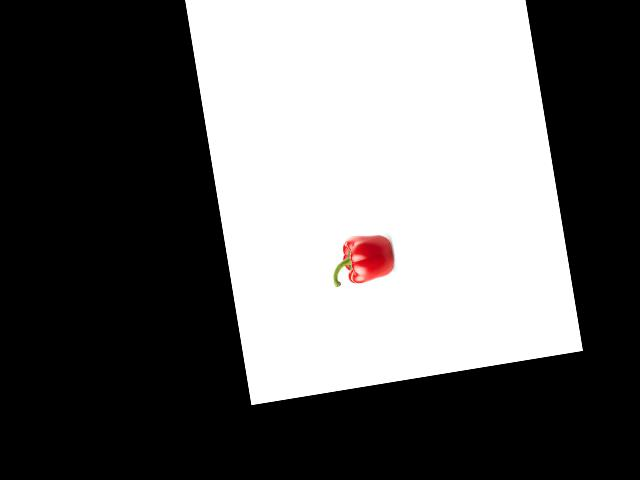bell_pepper: (326, 231, 397, 289)
